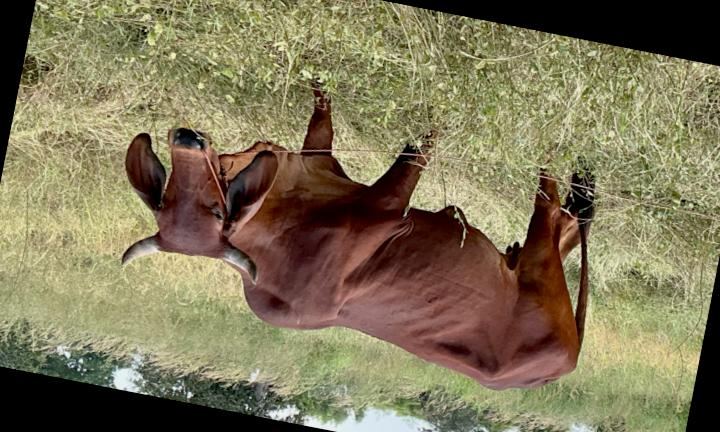Brahman: (122, 91, 594, 389)
